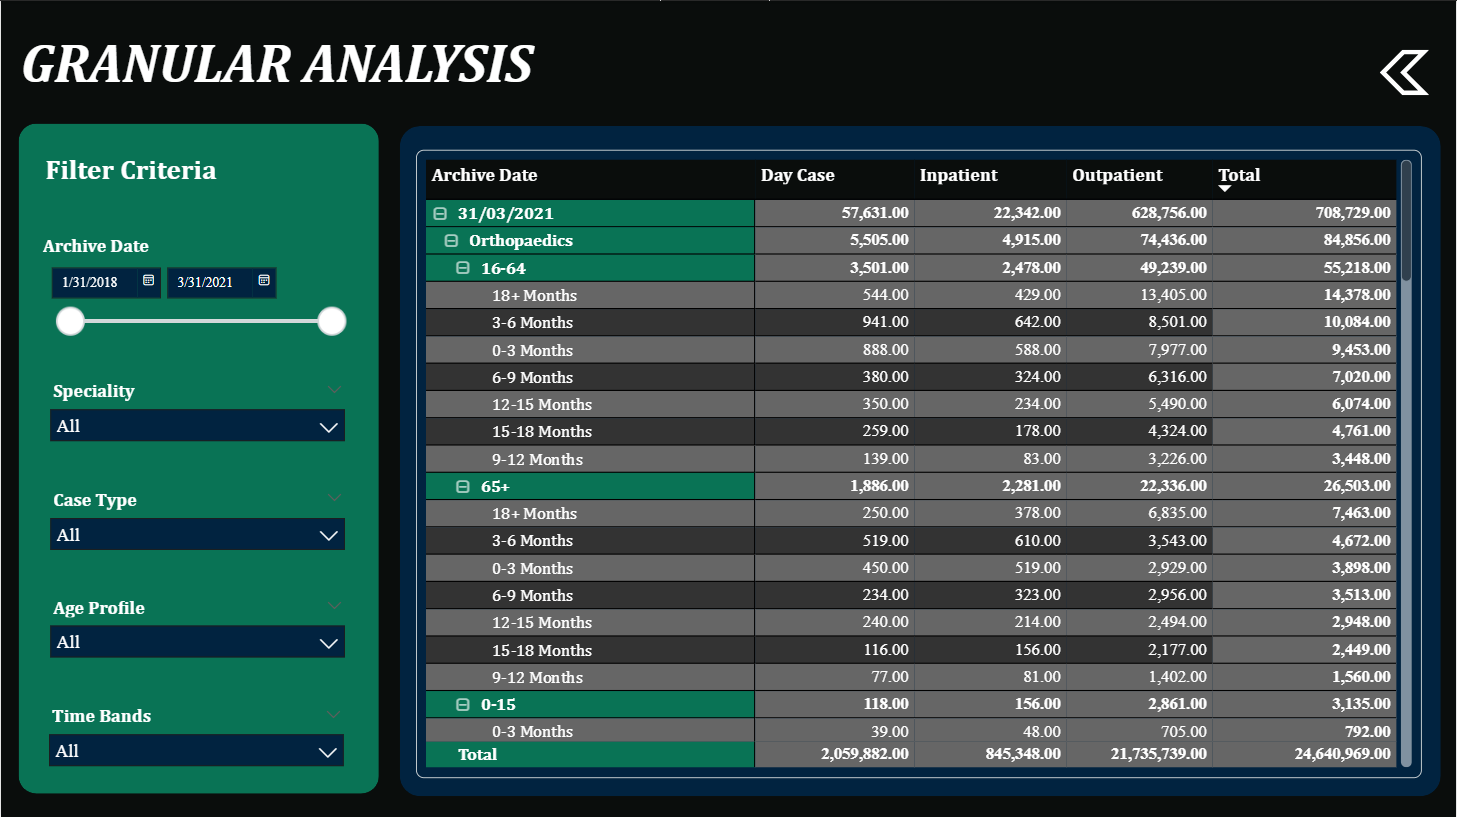

The page's visual inventory and layout, read from the dashboard file:
{"tool":"powerbi","page":{"name":"Granular Analysis","canvas":[1280,720],"ordinal":1},"visuals":[{"type":"shape","box":[15.7,107.7,317.2,589.5],"z":0},{"type":"shape","box":[350.8,109.5,915.7,589.5],"z":1000},{"type":"textbox","box":[12.1,21.8,709.4,79.9],"z":2000},{"type":"pivotTable","fields":{"Rows":["All_Patients_Data.Archive_Date","All_Patients_Data.Speciality_Name","All_Patients_Data.Age_Profile","All_Patients_Data.Time_Bands"],"Columns":["All_Patients_Data.Case_Type"],"Values":["Sum(All_Patients_Data.Total)"]},"box":[365.5,130.5,884.9,552.6],"z":3000},{"type":"slicer","fields":{"Values":["All_Patients_Data.Case_Type"]},"box":[32.5,424.1,279.3,63.6],"z":4000},{"type":"slicer","fields":{"Values":["All_Patients_Data.Speciality_Name"]},"box":[32.5,328.7,279.3,63.6],"z":5000},{"type":"slicer","fields":{"Values":["All_Patients_Data.Time_Bands"]},"box":[32.3,614.8,279.4,64],"z":6000},{"type":"slicer","fields":{"Values":["All_Patients_Data.Age_Profile"]},"box":[32.5,519.5,279.3,63.6],"z":7000},{"type":"textbox","box":[34.4,129.2,202.7,40.3],"z":8000},{"type":"slicer","title":"Archive Date","fields":{"Values":["All_Patients_Data.Archive_Date"]},"box":[31.7,205.2,279.6,99.3],"z":9000},{"type":"actionButton","box":[1212.9,42.4,43.6,39.9],"z":11000}]}

Visuals, with their boxes in screenshot pixels (x1, y1, x2, y2), scaled from the page's 1280x720 canvas onto the 1457x817 screenshot:
shape: (18,122,379,791)
shape: (399,124,1442,793)
textbox: (14,25,821,115)
pivotTable - All_Patients_Data.Archive_Date x All_Patients_Data.Speciality_Name: (416,148,1423,775)
slicer - All_Patients_Data.Case_Type: (37,481,355,553)
slicer - All_Patients_Data.Speciality_Name: (37,373,355,445)
slicer - All_Patients_Data.Time_Bands: (37,698,355,770)
slicer - All_Patients_Data.Age_Profile: (37,589,355,662)
textbox: (39,147,270,192)
"Archive Date" slicer: (36,233,354,346)
actionButton: (1381,48,1430,93)
